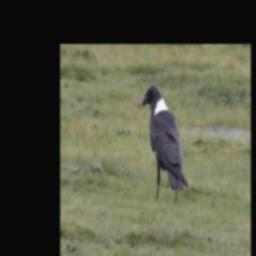Crow: (143, 84, 189, 201)
